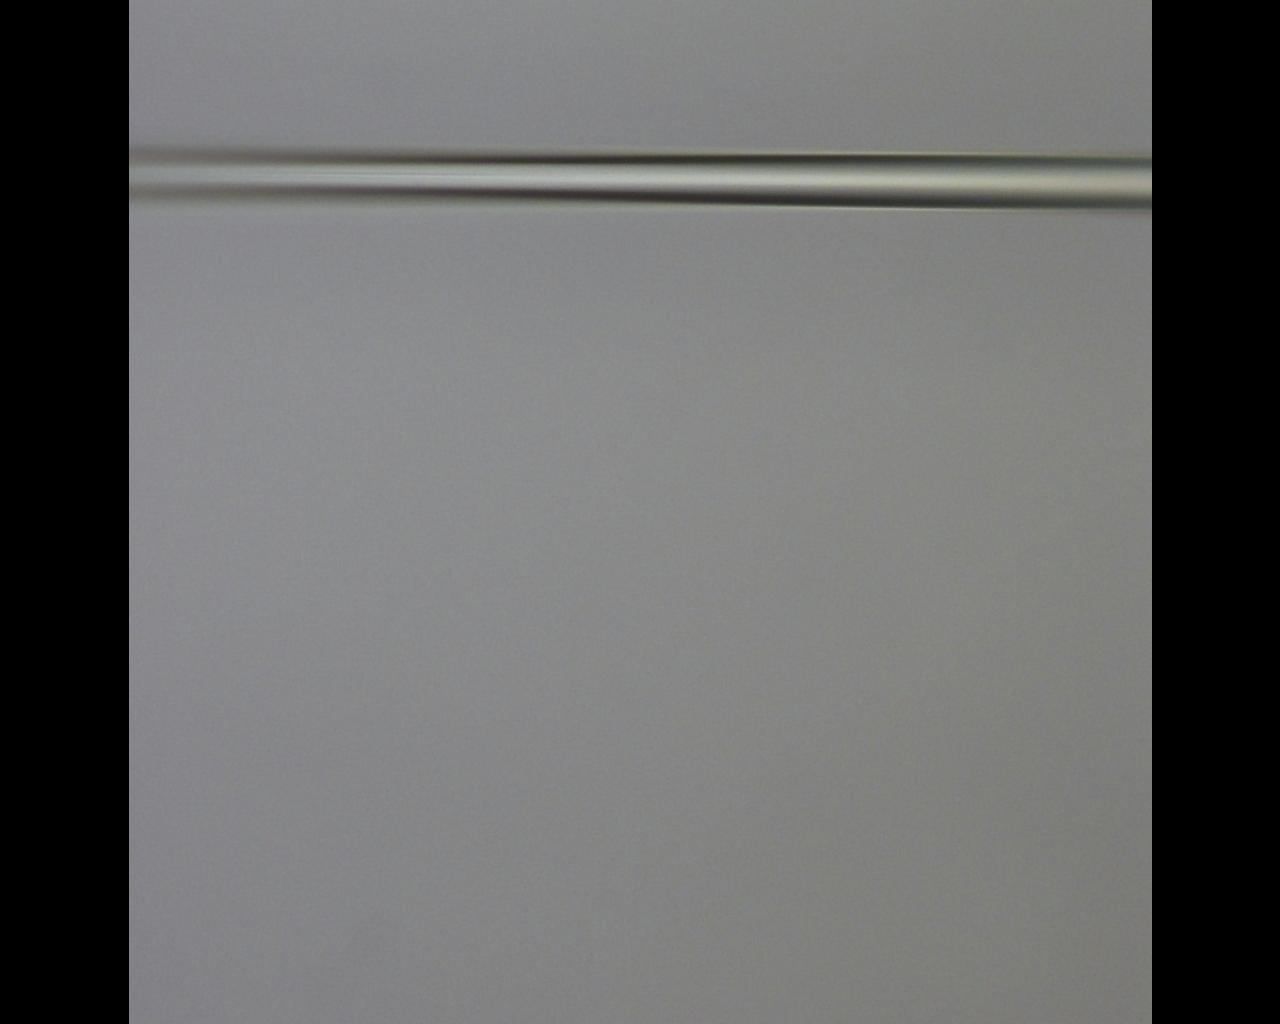fiber: (128, 408, 1152, 430)
